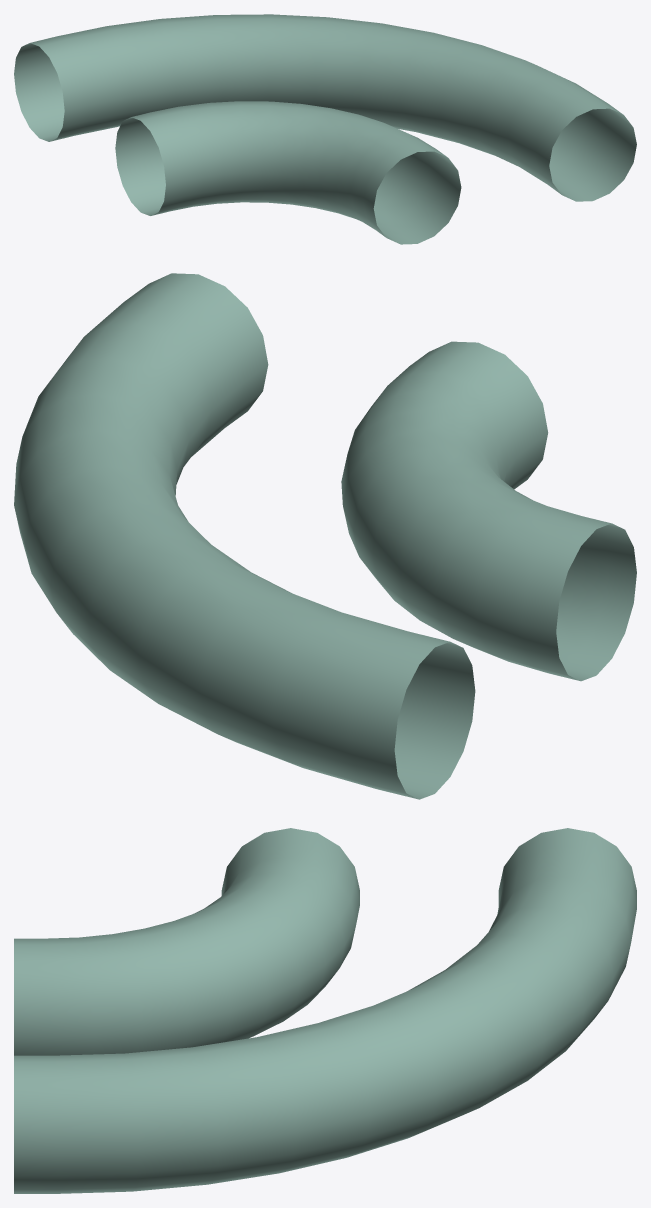
Rendered from PipeComplexLarge_A2_10.fbx.
3 renders of one model, top to bottom at view 1: azimuth 30°, elevation 25°; view 2: azimuth 150°, elevation 25°; view 3: azimuth 270°, elevation 25°, orthographic. The views are drawn at different scales.
Parts seen in each view (by area): view 1: PipeComplexLarge_A2_10.001; view 2: PipeComplexLarge_A2_10.001; view 3: PipeComplexLarge_A2_10.001.
Part boxes in pixels (left/top/right/bottom): PipeComplexLarge_A2_10.001: left=14, top=14, right=636, bottom=244; PipeComplexLarge_A2_10.001: left=14, top=273, right=636, bottom=799; PipeComplexLarge_A2_10.001: left=14, top=828, right=636, bottom=1193.
Size of the model in its own units: 0.9 by 0.2 by 0.9.
